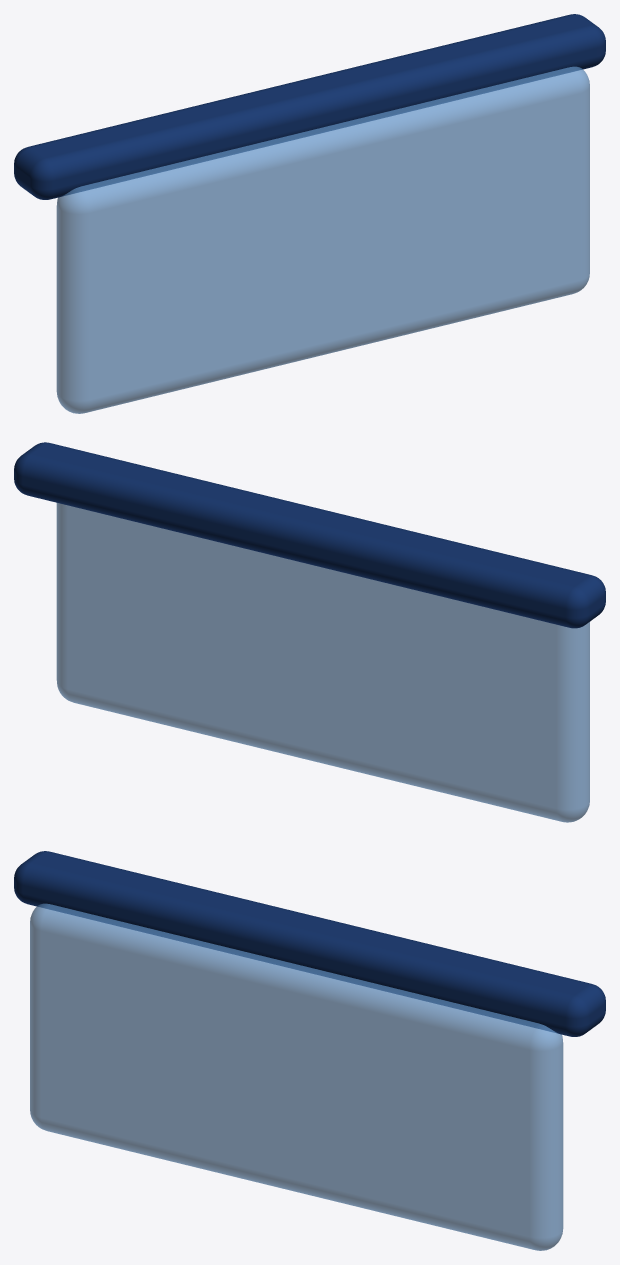
3 renders of one model, top to bottom at view 1: azimuth 30°, elevation 25°; view 2: azimuth 150°, elevation 25°; view 3: azimuth 330°, elevation 25°, orthographic.
Parts seen in each view (by area): view 1: eyewear.sun-shield.shield, eyewear.sun-shield.frame; view 2: eyewear.sun-shield.shield, eyewear.sun-shield.frame; view 3: eyewear.sun-shield.shield, eyewear.sun-shield.frame.
Boxes of the visible parts, x1,y1,x2,y2 form: eyewear.sun-shield.shield: (56,66,589,413); eyewear.sun-shield.frame: (14,14,605,199); eyewear.sun-shield.shield: (56,503,589,822); eyewear.sun-shield.frame: (14,442,605,628); eyewear.sun-shield.shield: (30,903,563,1250); eyewear.sun-shield.frame: (14,851,605,1036).
Size of the model in its own units: 0.37 by 0.1575 by 0.045.
